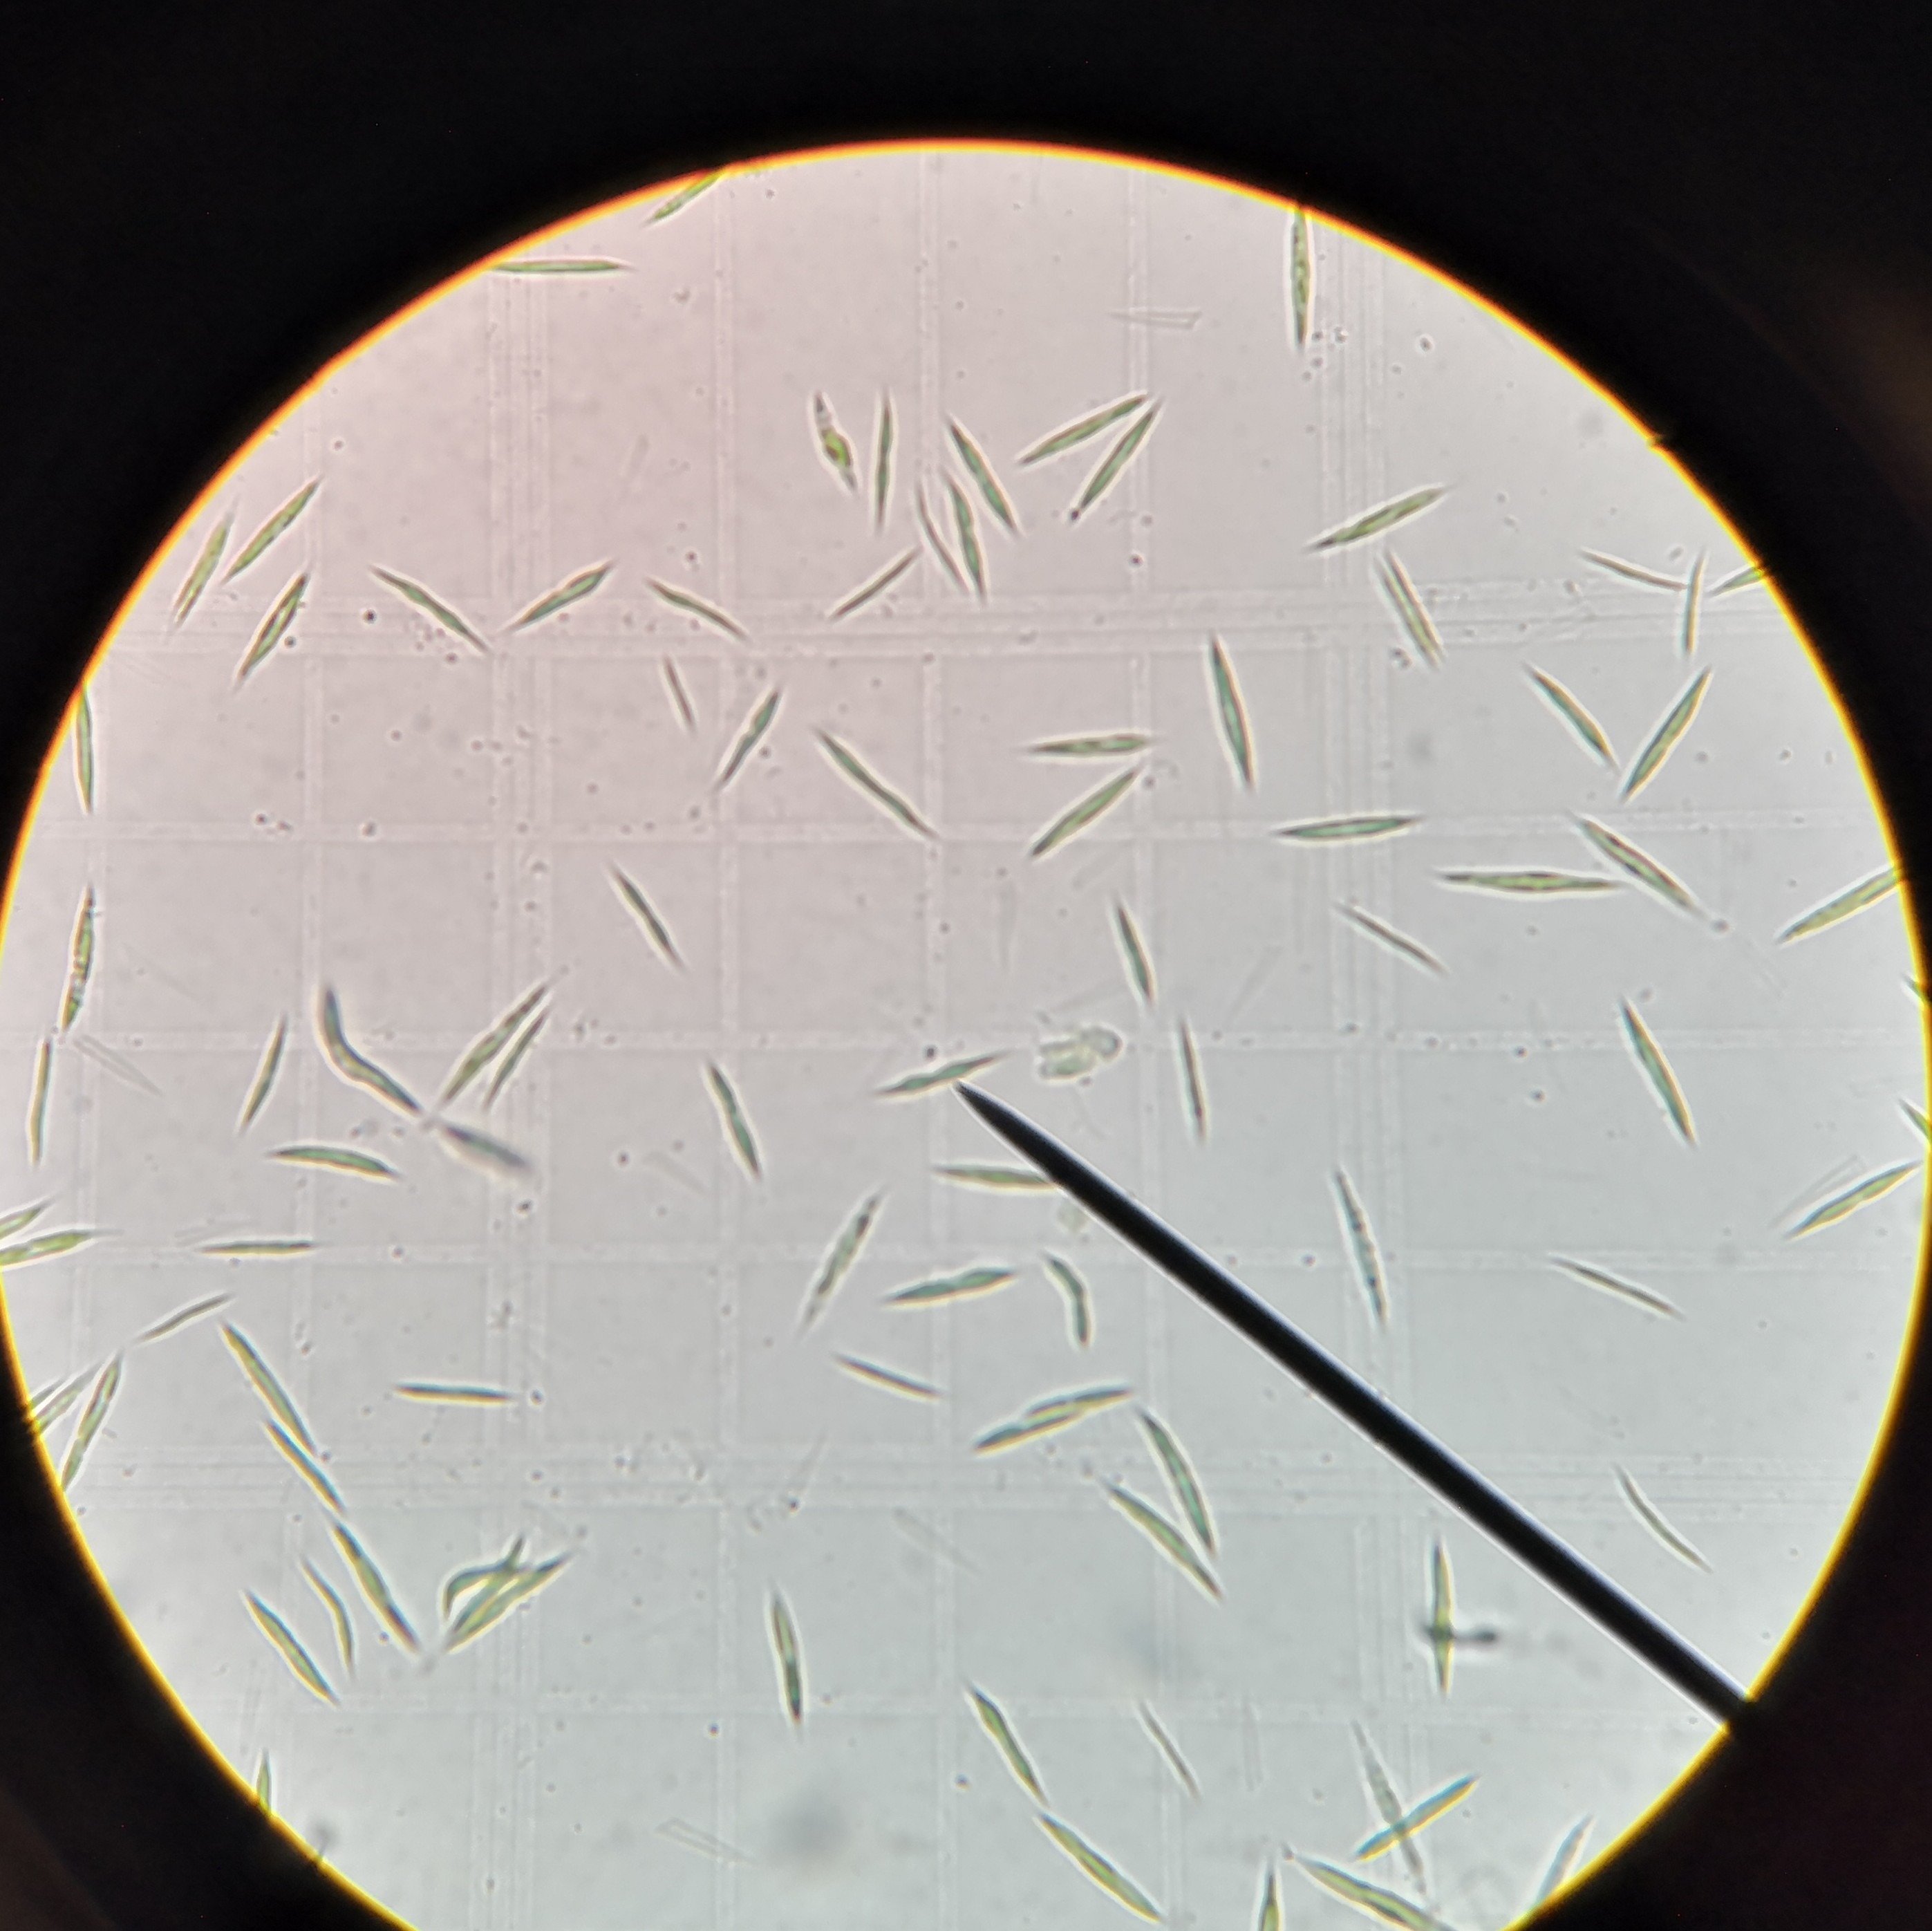Microalgae: (1089, 1475, 1213, 1591), (1605, 1013, 1702, 1156), (1596, 1469, 1720, 1577), (430, 974, 537, 1096), (315, 980, 412, 1109), (453, 1547, 576, 1646), (1540, 1245, 1693, 1323), (362, 557, 491, 649), (813, 723, 926, 828), (1020, 1823, 1151, 1910), (232, 1583, 332, 1694), (953, 1680, 1043, 1798), (799, 1201, 882, 1326), (1347, 1740, 1426, 1871), (1122, 1691, 1209, 1809), (1200, 615, 1259, 789), (840, 1038, 1009, 1096), (930, 423, 1020, 532), (744, 1590, 817, 1726), (1568, 822, 1692, 902), (1296, 1866, 1444, 1931), (1405, 1531, 1462, 1699), (334, 1526, 407, 1657), (1308, 474, 1437, 546), (1624, 675, 1700, 798), (219, 486, 323, 575), (1358, 1768, 1472, 1848), (1768, 868, 1900, 937), (597, 866, 691, 964), (979, 1385, 1122, 1446), (1785, 1155, 1907, 1227), (1144, 1404, 1206, 1540), (1331, 900, 1453, 969), (695, 1065, 767, 1179), (1025, 778, 1130, 858), (216, 1330, 300, 1427), (244, 557, 306, 690), (1329, 1179, 1384, 1326), (64, 1363, 124, 1494), (1430, 863, 1623, 902), (714, 667, 778, 778), (894, 1264, 1015, 1323), (299, 1565, 361, 1673), (1099, 895, 1156, 1010), (1561, 543, 1685, 594), (55, 675, 97, 817), (265, 1427, 341, 1505), (48, 872, 85, 1031), (1540, 683, 1605, 773), (186, 500, 233, 622), (951, 483, 997, 608), (504, 564, 608, 619), (802, 384, 854, 495), (647, 571, 739, 633), (824, 553, 910, 619), (1285, 193, 1322, 343), (260, 1139, 396, 1179), (1022, 396, 1133, 446), (638, 161, 714, 233), (838, 1358, 946, 1408), (1373, 564, 1428, 661), (5, 1218, 87, 1284), (389, 1370, 511, 1411), (923, 1162, 1055, 1199), (1020, 723, 1163, 757), (1662, 548, 1709, 649), (1172, 1027, 1213, 1142), (898, 476, 942, 575), (23, 1024, 58, 1144), (1257, 819, 1437, 842), (486, 249, 622, 279), (126, 1296, 221, 1337), (1041, 1252, 1082, 1339), (200, 1233, 313, 1263), (1239, 1869, 1282, 1931), (0, 1187, 34, 1234), (1718, 559, 1759, 592)
